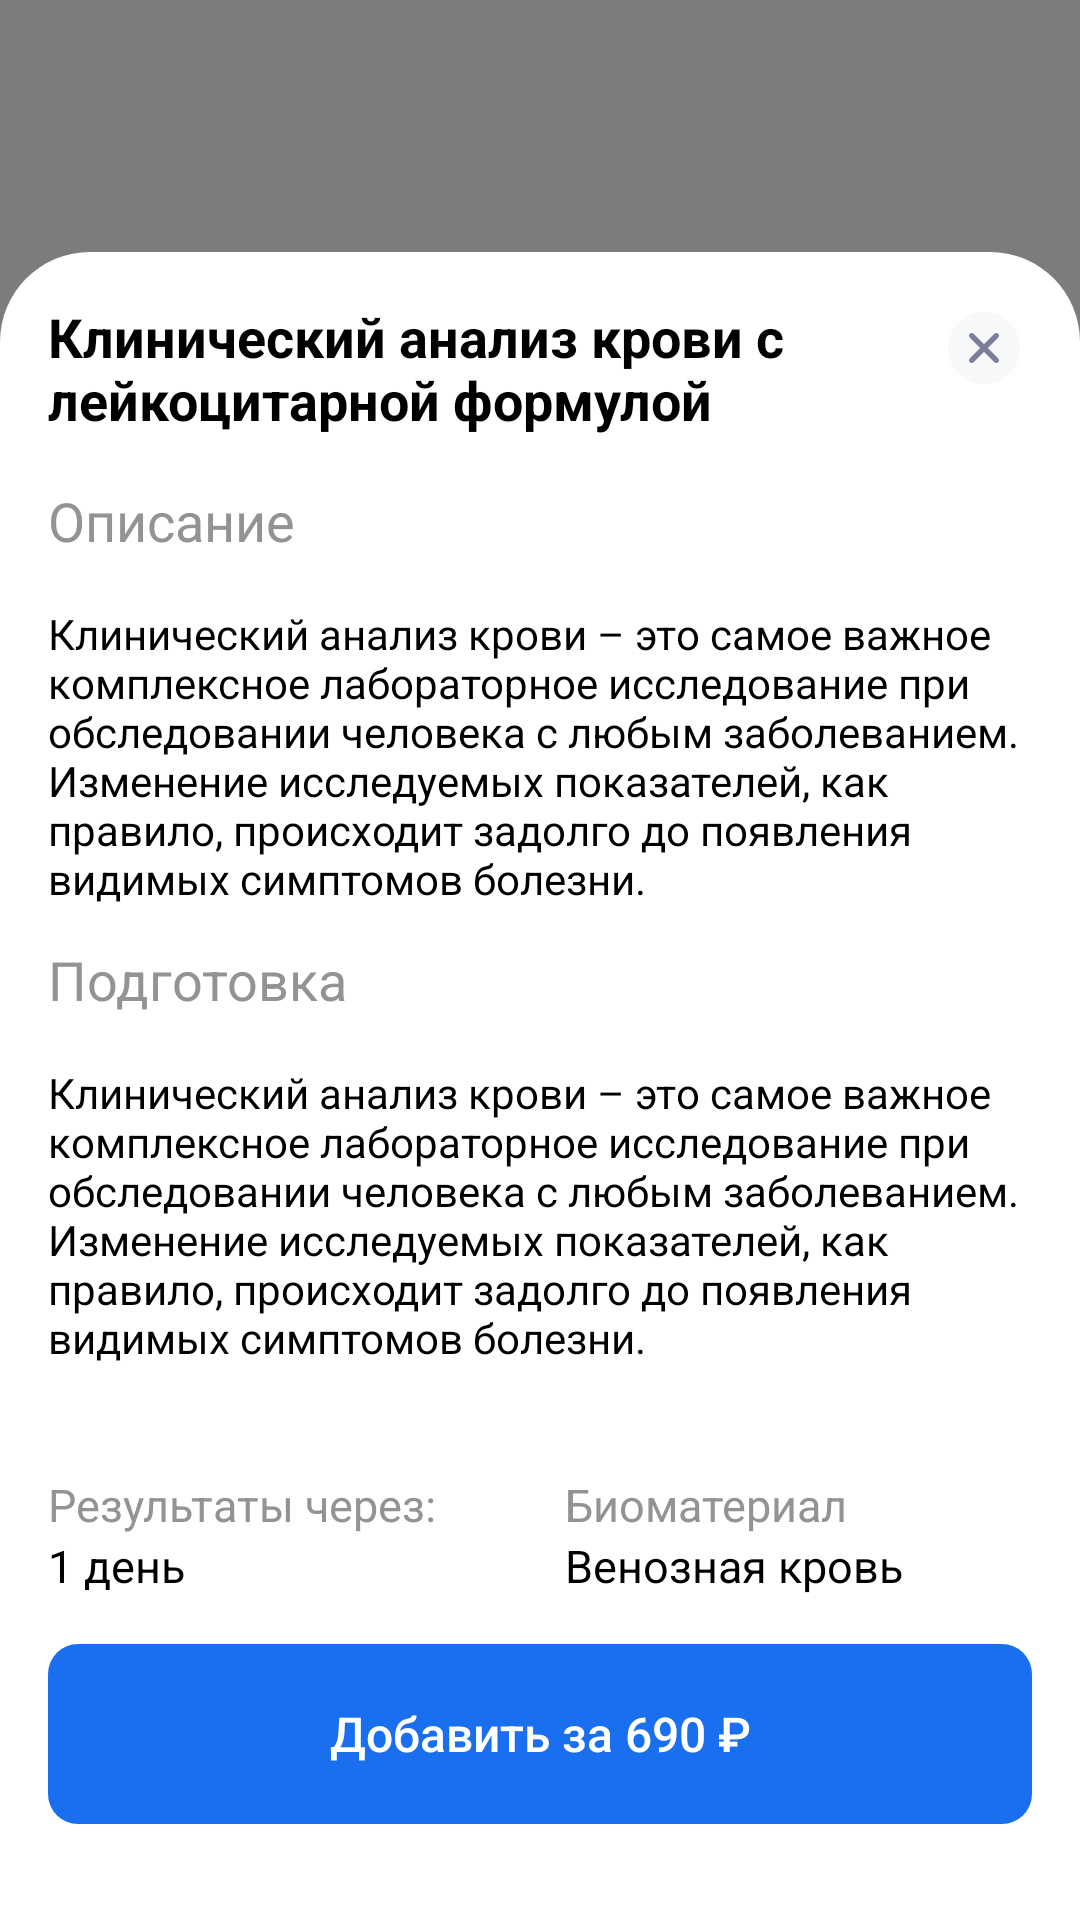

Point at icon controls on the screen. Image size 1080x1920, points as [x,y].
close: [984,348]
